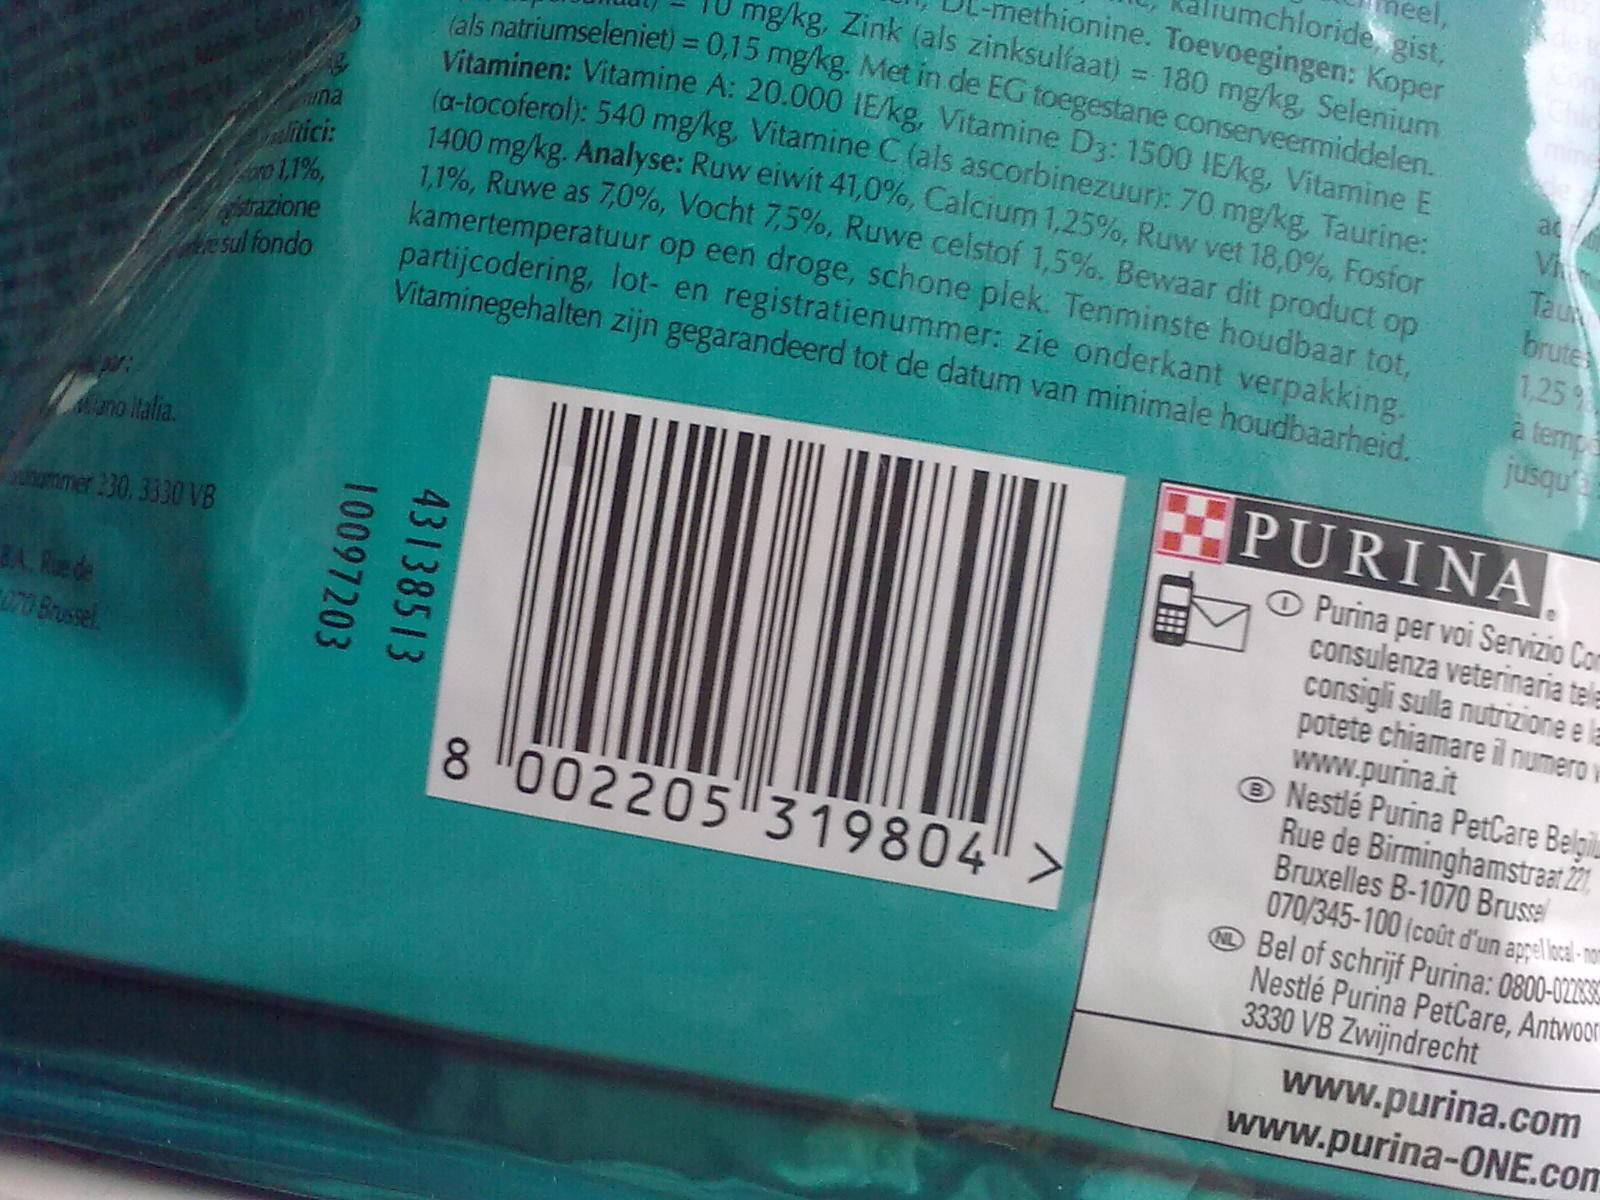barcode: (428, 378, 1126, 914)
